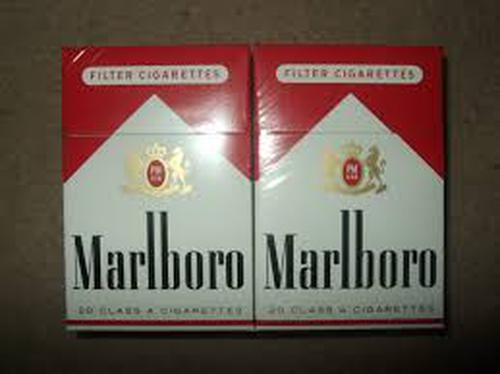marlboro: (62, 50, 255, 333), (257, 51, 441, 334)
